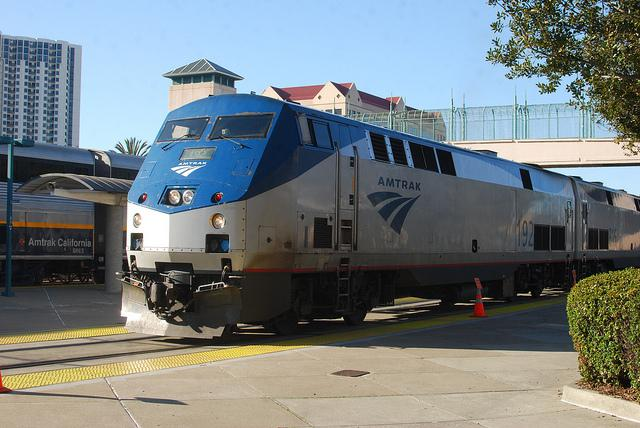Train: (126, 93, 640, 341)
